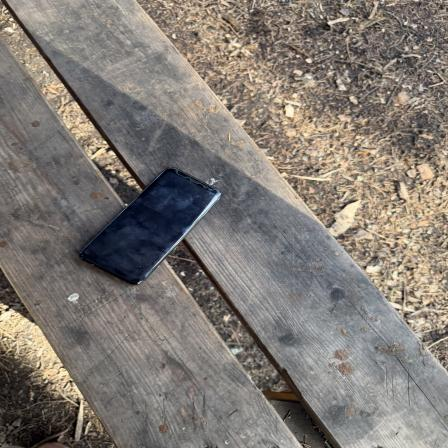phone: (76, 167, 223, 289)
